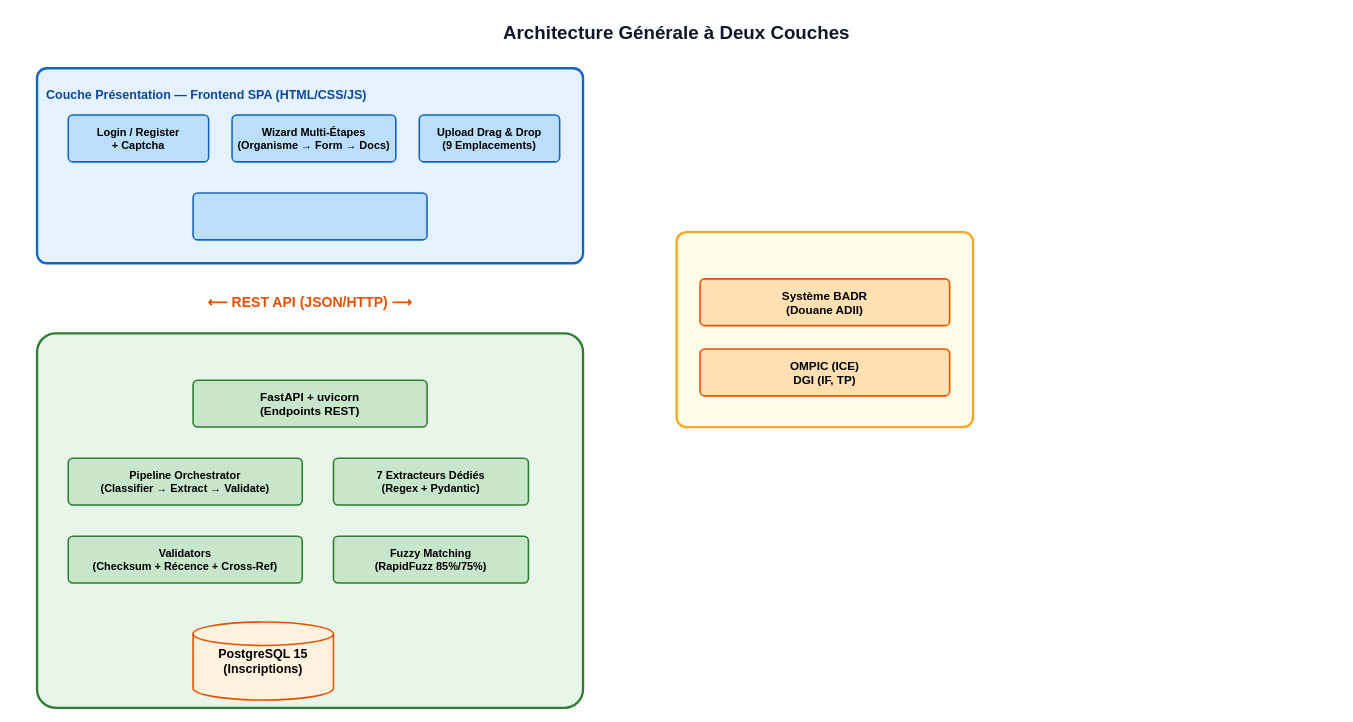
Image size: 1353x722. Some labels were removed from this diagram. The box of each missing label's shape, as (x1, y1, x2, y2) in pixels:
Couche Métier & Données — Backend FastAPI (Python): (35, 332, 584, 709)
Rapport Interactif (Badges V/O/R): (192, 192, 427, 240)
Systèmes Externes: (675, 230, 974, 428)
